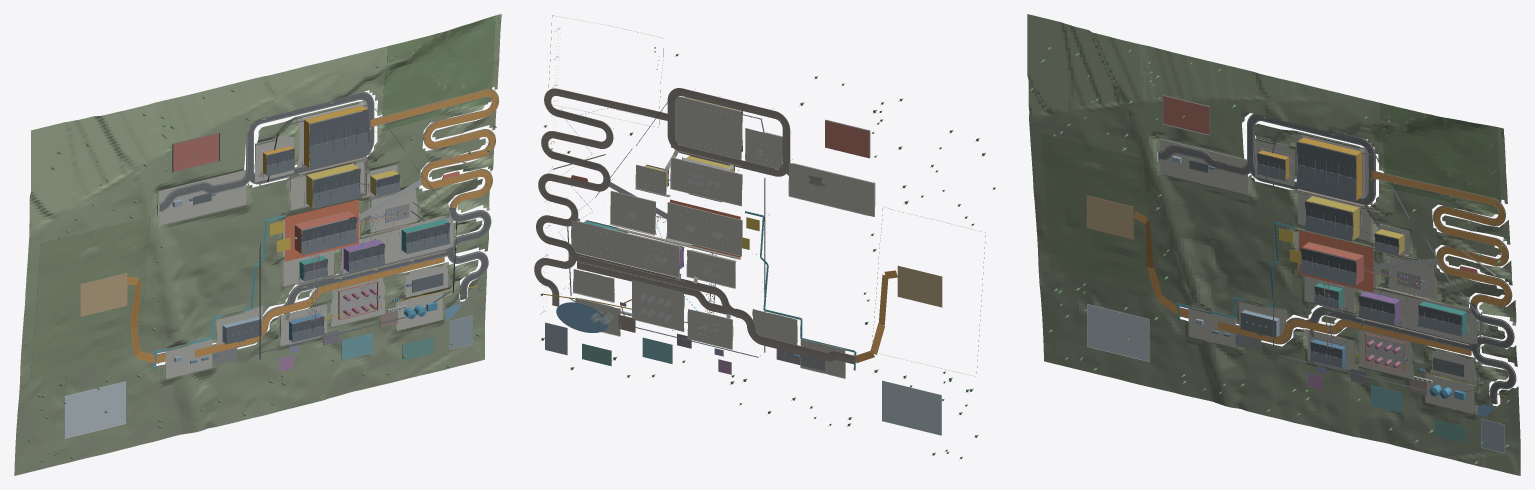
The model's file is 26_Модель_A1_RevP5_Integrated_preFEED.glb.
3 views of the same model, side by side, from view 1: azimuth 30°, elevation 25°; view 2: azimuth 150°, elevation 25°; view 3: azimuth 330°, elevation 25° (orthographic). The views are drawn at different scales.
Visible parts, largest first — view 1: REV_P5_finished_design_surface_CUT, EXT_RESERVE_WEST_SURFACE, EXT_RESERVE_EAST_SURFACE, REV_P5_MP_HEAVY_HAUL_ROUTE, REV_P5_MP_CLEAN_SNOW_CONTAINMENT, BLD_02_ROOF, pad_R1, REV_P5_EXT_D2_ROAD, REV_P5_MP_ASSEMBLY_PAD_60x40, REV_P5_MP_TIRE_QUARANTINE, BLD_05_ROOF, BLD_03_ROOF (+30 smaller); view 2: REV_P5_EXT_D3_SUBBASE, pad_C2, pad_R3, pad_R1, REV_P5_EXT_D2_SUBBASE, pad_P1, REV_P5_MP_CLEAN_SNOW_CONTAINMENT, pad_M1, pad_U1, pad_P2, REV_P5_MP_ASSEMBLY_PAD_60x40, pad_U3 (+20 smaller); view 3: REV_P5_finished_design_surface_CUT, EXT_RESERVE_WEST_SURFACE, EXT_RESERVE_EAST_SURFACE, REV_P5_MP_HEAVY_HAUL_ROUTE, BLD_02_ROOF, REV_P5_MP_CLEAN_SNOW_CONTAINMENT, pad_R1, REV_P5_EXT_D2_ROAD, REV_P5_MP_ASSEMBLY_PAD_60x40, REV_P5_MP_TIRE_QUARANTINE, BLD_05_ROOF, BLD_03_ROOF (+30 smaller).
Part boxes in pixels (<box>): REV_P5_finished_design_surface_CUT: <box>14,14,501,475</box>; EXT_RESERVE_WEST_SURFACE: <box>31,217,150,378</box>; EXT_RESERVE_EAST_SURFACE: <box>382,16,495,131</box>; REV_P5_MP_HEAVY_HAUL_ROUTE: <box>127,89,499,363</box>; REV_P5_MP_CLEAN_SNOW_CONTAINMENT: <box>64,381,126,438</box>; BLD_02_ROOF: <box>309,110,369,169</box>; pad_R1: <box>158,169,246,224</box>; REV_P5_EXT_D2_ROAD: <box>219,93,373,190</box>; REV_P5_MP_ASSEMBLY_PAD_60x40: <box>80,273,127,316</box>; REV_P5_MP_TIRE_QUARANTINE: <box>172,132,219,172</box>; BLD_05_ROOF: <box>301,217,357,255</box>; BLD_03_ROOF: <box>312,169,360,208</box>; REV_P5_EXT_D3_SUBBASE: <box>534,88,667,306</box>; pad_C2: <box>571,220,678,277</box>; pad_R3: <box>671,96,741,159</box>; pad_R1: <box>789,163,874,216</box>; REV_P5_EXT_D2_SUBBASE: <box>667,88,814,184</box>; pad_P1: <box>667,202,741,255</box>; REV_P5_MP_CLEAN_SNOW_CONTAINMENT: <box>882,380,941,435</box>; pad_M1: <box>671,157,741,205</box>; pad_U1: <box>632,280,683,331</box>; pad_P2: <box>610,191,655,234</box>; REV_P5_MP_ASSEMBLY_PAD_60x40: <box>897,265,942,307</box>; pad_U3: <box>688,309,732,349</box>; REV_P5_finished_design_surface_CUT: <box>1027,14,1520,475</box>; EXT_RESERVE_WEST_SURFACE: <box>1041,133,1160,294</box>; EXT_RESERVE_EAST_SURFACE: <box>1380,103,1501,212</box>; REV_P5_MP_HEAVY_HAUL_ROUTE: <box>1133,170,1511,355</box>; BLD_02_ROOF: <box>1296,142,1356,201</box>; REV_P5_MP_CLEAN_SNOW_CONTAINMENT: <box>1087,304,1149,361</box>; pad_R1: <box>1158,139,1247,194</box>; REV_P5_EXT_D2_ROAD: <box>1220,114,1374,204</box>; REV_P5_MP_ASSEMBLY_PAD_60x40: <box>1086,195,1133,239</box>; REV_P5_MP_TIRE_QUARANTINE: <box>1162,95,1210,135</box>; BLD_05_ROOF: <box>1300,248,1356,286</box>; BLD_03_ROOF: <box>1305,201,1353,241</box>.
Bounding box in the file's own units: 608 × 440 × 66.45.
